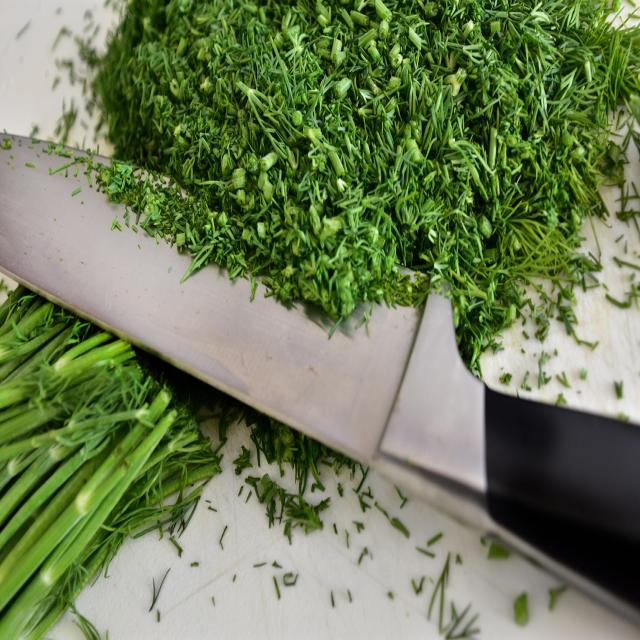Knife: (0, 134, 640, 623)
